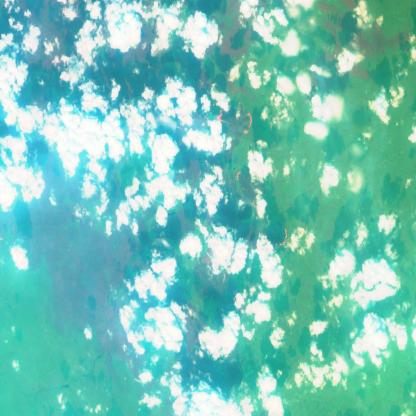fire: (212, 102, 258, 142), (270, 223, 290, 257), (214, 270, 230, 296), (249, 193, 262, 216), (233, 165, 244, 188)
